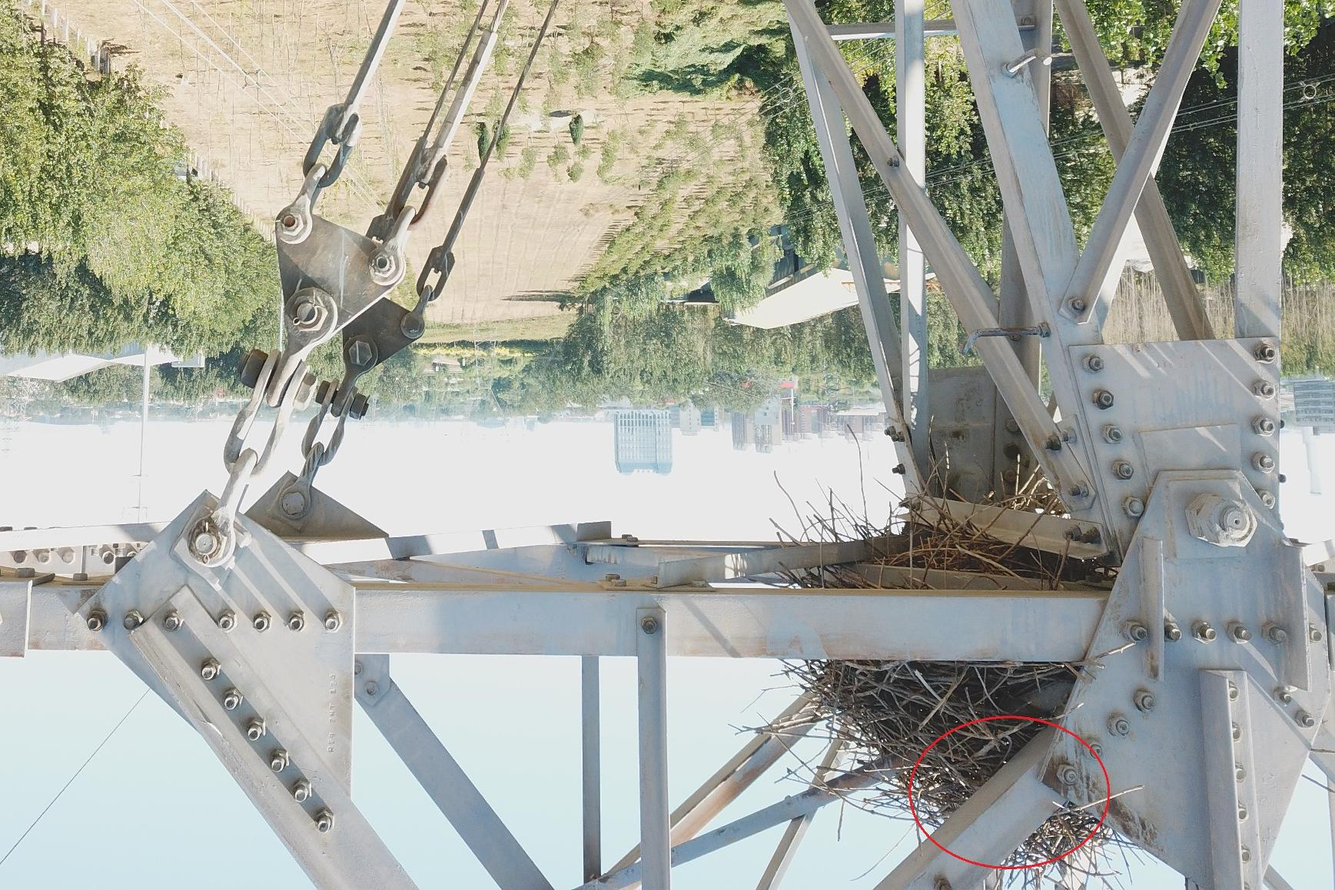nest: (743, 468, 1148, 890)
